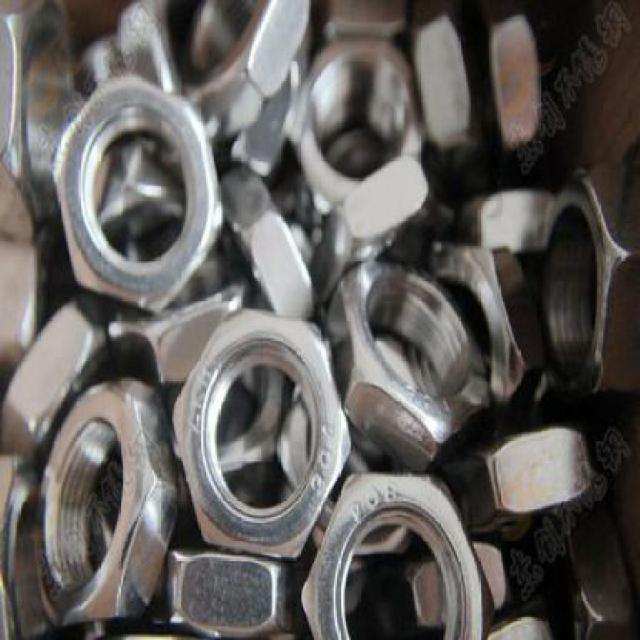Nut: (170, 304, 356, 561), (50, 72, 228, 315), (31, 374, 184, 628), (324, 257, 496, 472), (300, 466, 498, 640), (274, 370, 426, 558), (286, 34, 430, 231), (532, 166, 640, 397), (310, 152, 457, 302), (430, 233, 547, 421), (0, 293, 118, 462), (0, 0, 82, 240), (182, 0, 313, 141), (450, 424, 609, 531), (218, 167, 325, 323), (108, 273, 249, 386), (381, 536, 513, 639), (165, 544, 303, 640), (410, 5, 486, 172), (482, 1, 546, 160), (219, 366, 292, 505)
